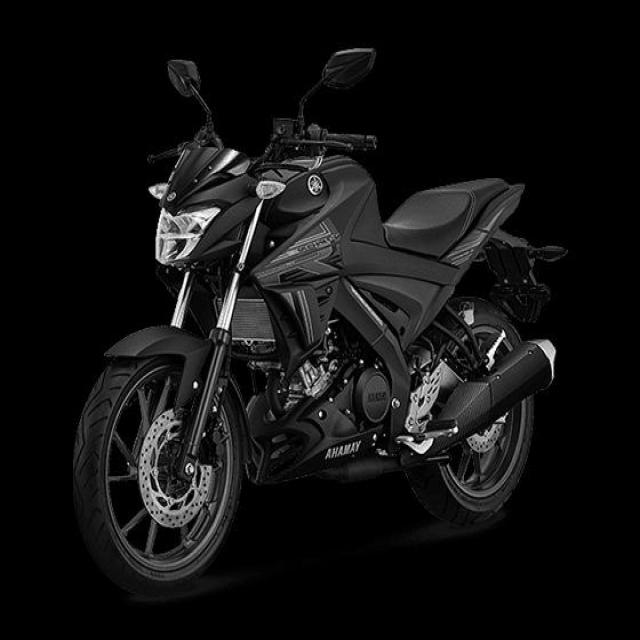Motorcycle: (73, 48, 552, 595)
